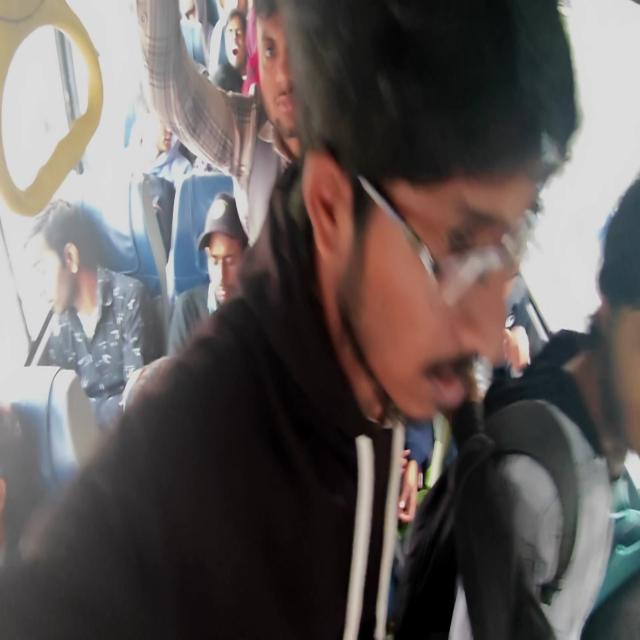person: (296, 0, 552, 420), (27, 222, 149, 402), (595, 226, 640, 548), (250, 15, 338, 172), (200, 211, 276, 368), (0, 424, 54, 623), (132, 83, 204, 200), (223, 21, 256, 72), (178, 3, 211, 46), (212, 72, 238, 123)
